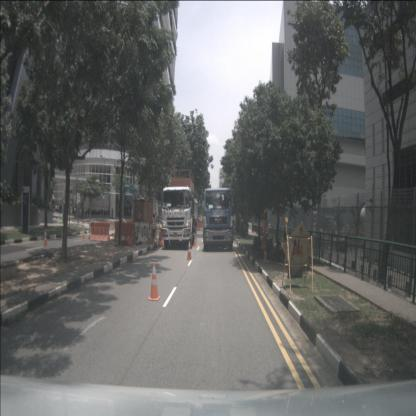human-pedestrian-adult: (138, 210, 142, 228), (72, 206, 75, 218), (74, 206, 76, 218), (81, 207, 83, 218), (55, 203, 57, 212), (59, 204, 61, 213), (58, 204, 60, 212), (60, 204, 62, 212), (112, 209, 113, 218)
movable_object-barrier: (134, 223, 159, 244), (114, 221, 135, 245), (90, 222, 110, 241), (107, 220, 121, 236), (158, 225, 166, 247), (195, 221, 204, 230)
movable_object-trafficcone: (148, 262, 160, 301), (186, 240, 192, 260), (43, 230, 48, 247), (192, 233, 197, 248), (147, 230, 152, 245), (82, 228, 86, 241)
vehicle-car: (336, 233, 348, 252)
vehicle-truck: (162, 170, 198, 248), (203, 188, 234, 251), (308, 211, 338, 249)
